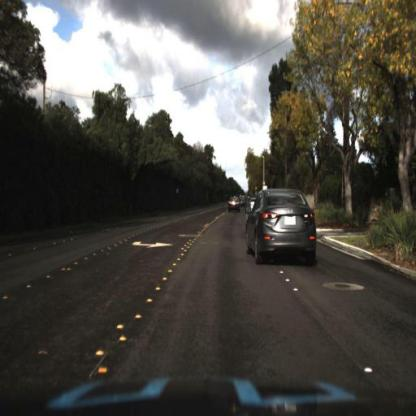car: (243, 190, 321, 265), (226, 195, 242, 216)
